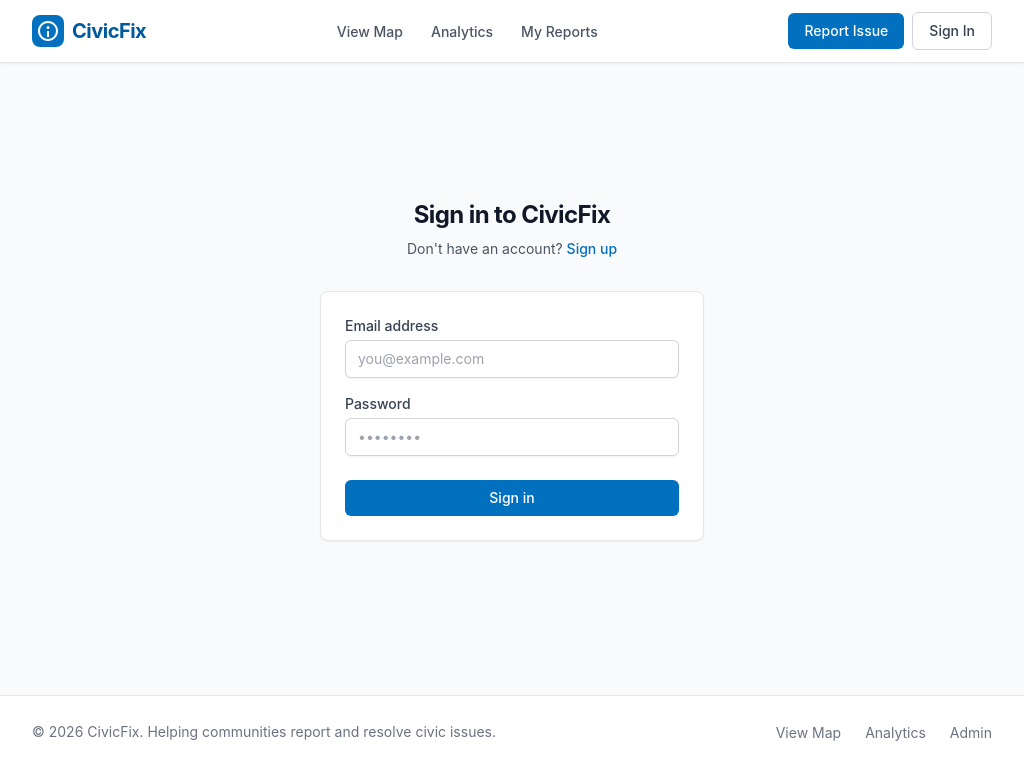
Test case: Citizen authentication › signs in a citizen and redirects to /reports/my
Step 1. Type "citizen@example.com" into the field labelled "Email address" → [512, 359], box [345, 340, 679, 378]
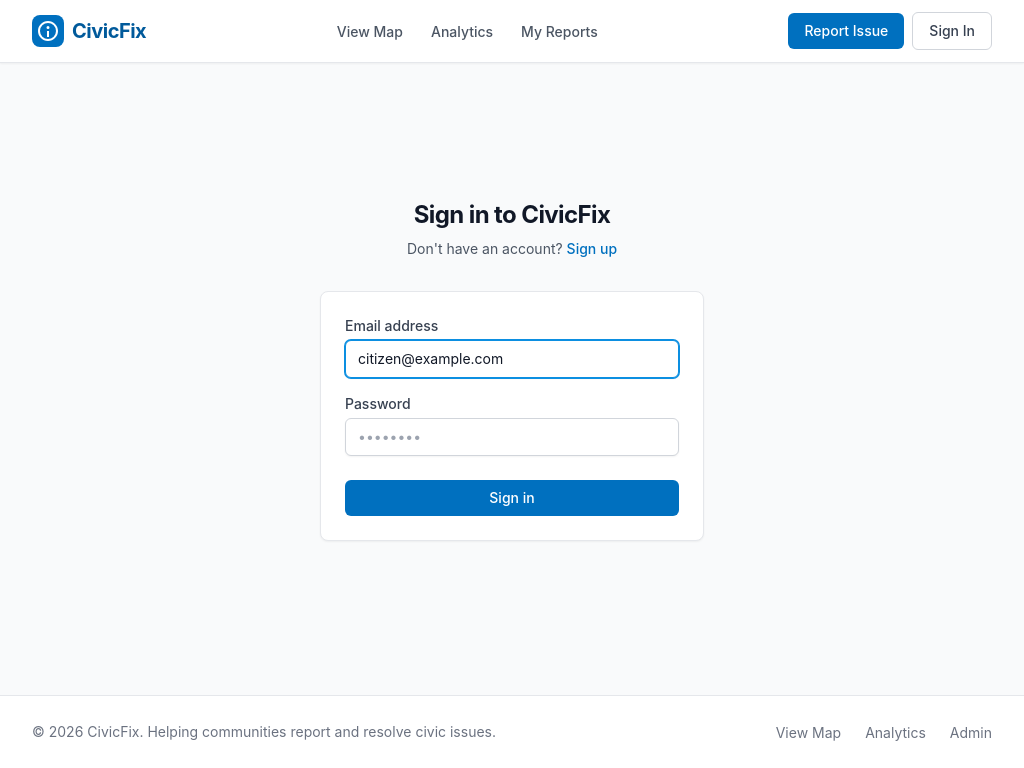
Step 2. Type "strongpass123" into the password field labelled "Password" → [512, 437], box [345, 418, 679, 456]
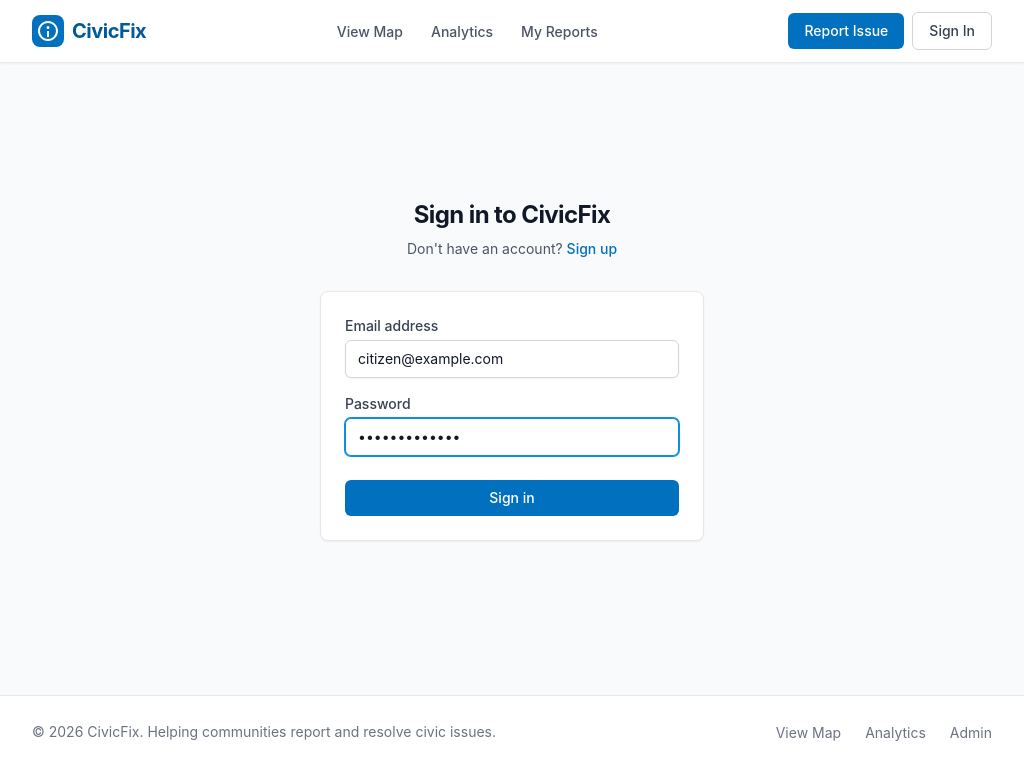
Step 3. Click the button "Sign in" → [512, 498], box [345, 480, 679, 516]
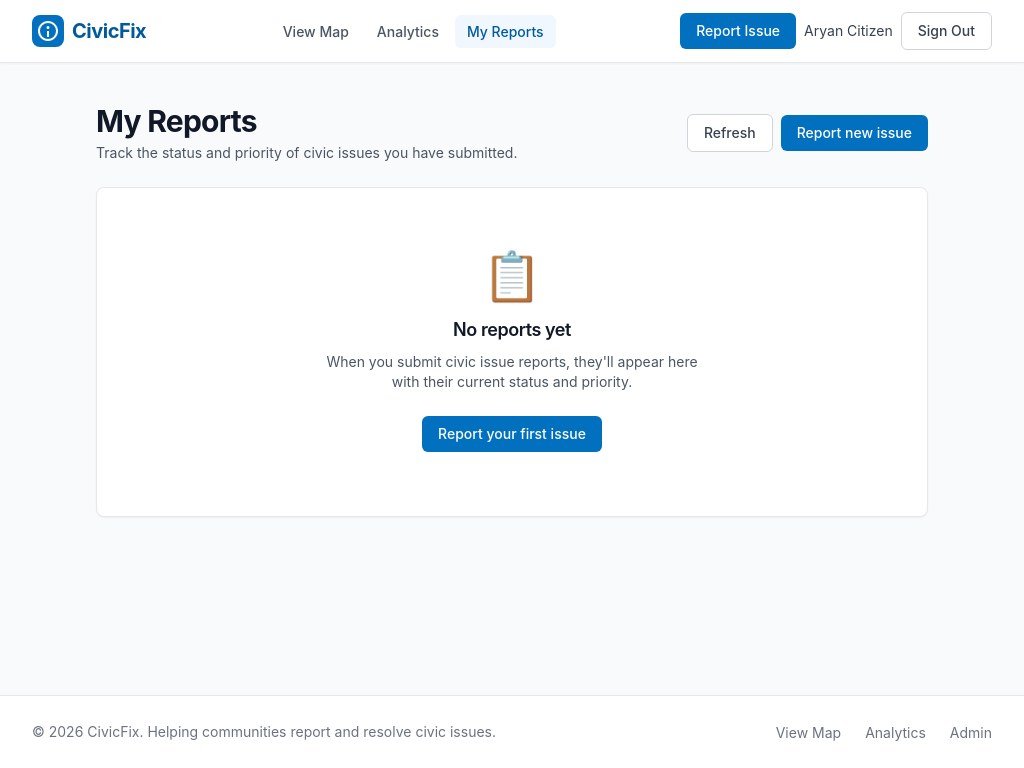
Check: the heading "My Reports" is shown, box [96, 103, 257, 139]
